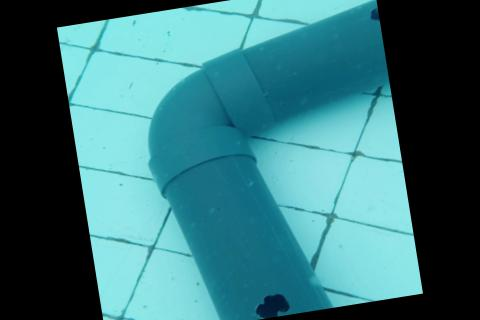kebocoran: (250, 288, 293, 320), (367, 5, 380, 24)
